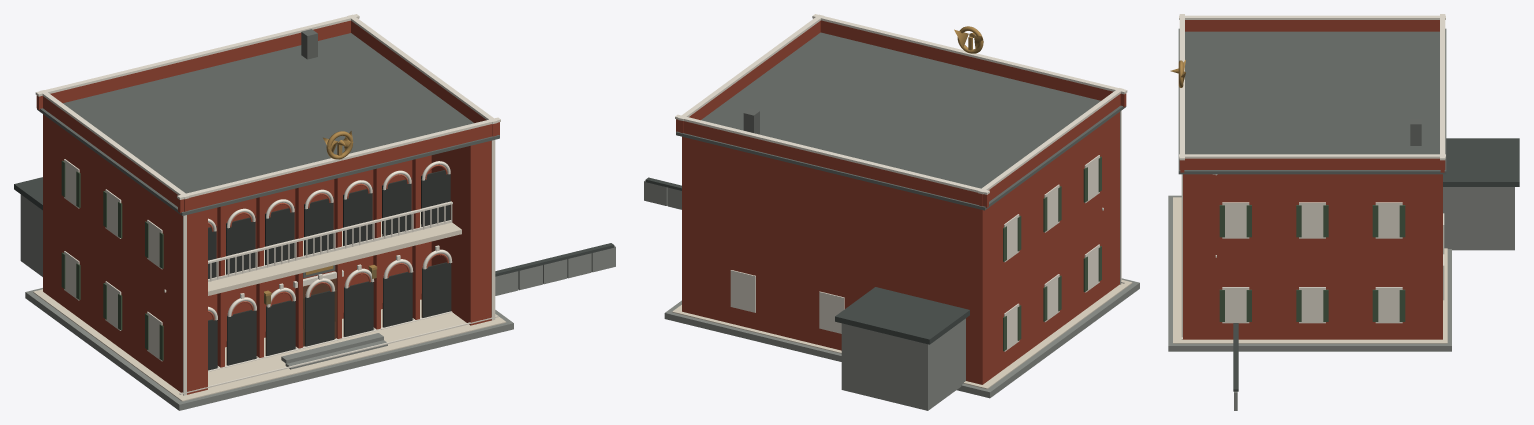
3 views of the same model, side by side, from view 1: azimuth 30°, elevation 25°; view 2: azimuth 150°, elevation 25°; view 3: azimuth 270°, elevation 25° (orthographic). The views are drawn at different scales.
Size of the model in its own units: 1.12 by 0.5294 by 0.7836.
